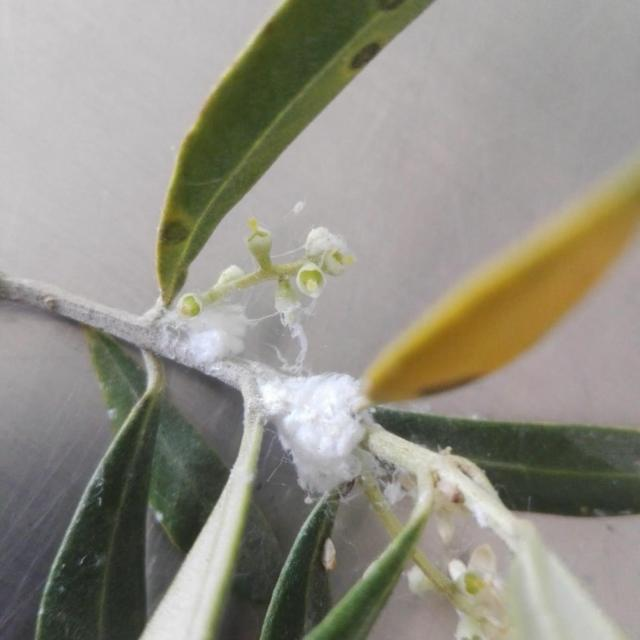OlivePeacockSpot: (156, 0, 434, 315)
Psyllid: (170, 220, 354, 374), (256, 366, 404, 503)
